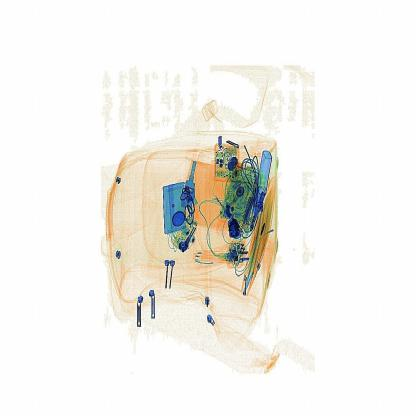scissors: (220, 208, 254, 245)
